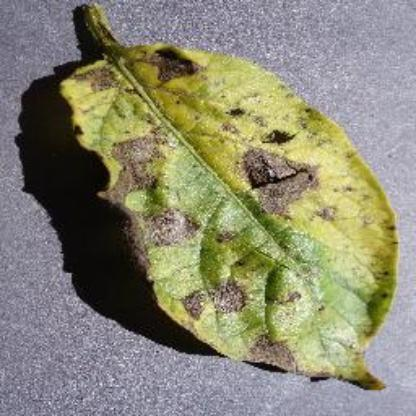Early-Blight: (60, 3, 396, 396)
